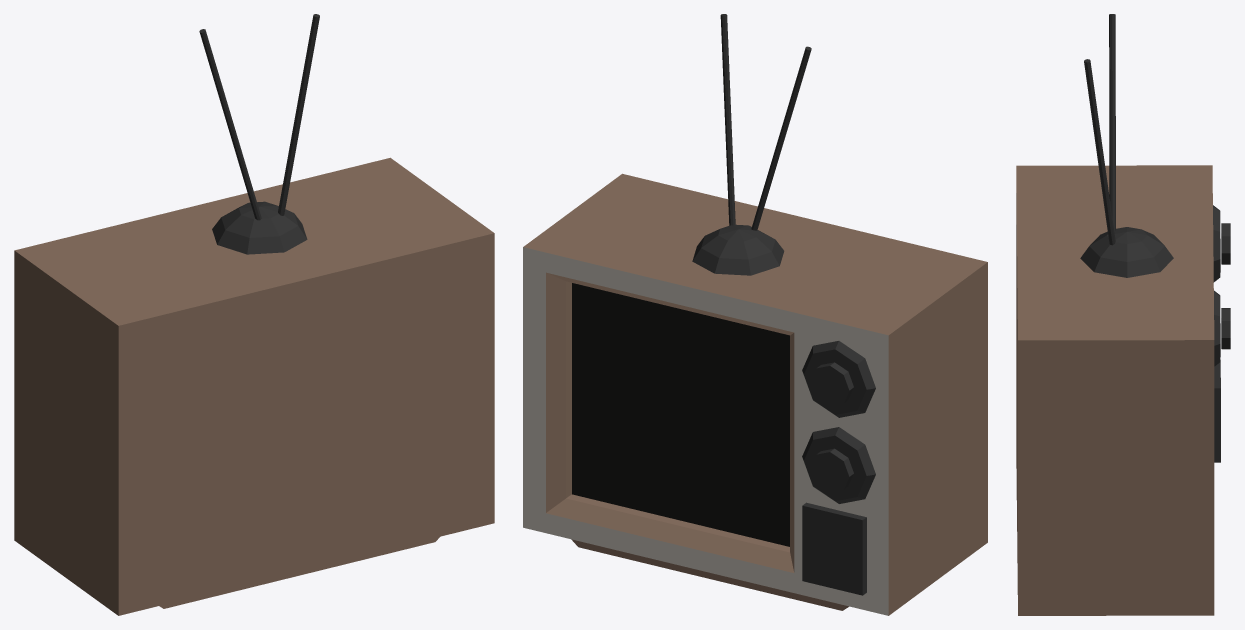
The picture shows the model from 3 angles, left to right: view 1: azimuth 30°, elevation 25°; view 2: azimuth 150°, elevation 25°; view 3: azimuth 270°, elevation 25°; orthographic projection. The views are drawn at different scales.
Visible parts, largest first — view 1: TV; view 2: TV; view 3: TV.
Part boxes in pixels (bbox=[...]): TV: bbox=[14, 14, 494, 615]; TV: bbox=[523, 14, 987, 615]; TV: bbox=[1016, 14, 1230, 615].
Bounding box in the file's own units: 82.29 × 109 × 42.61.
